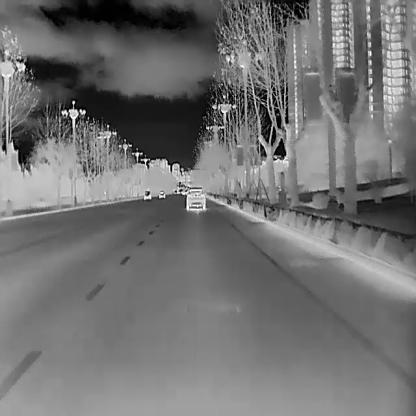car: (185, 186, 206, 209), (142, 188, 151, 200), (158, 190, 165, 198)
